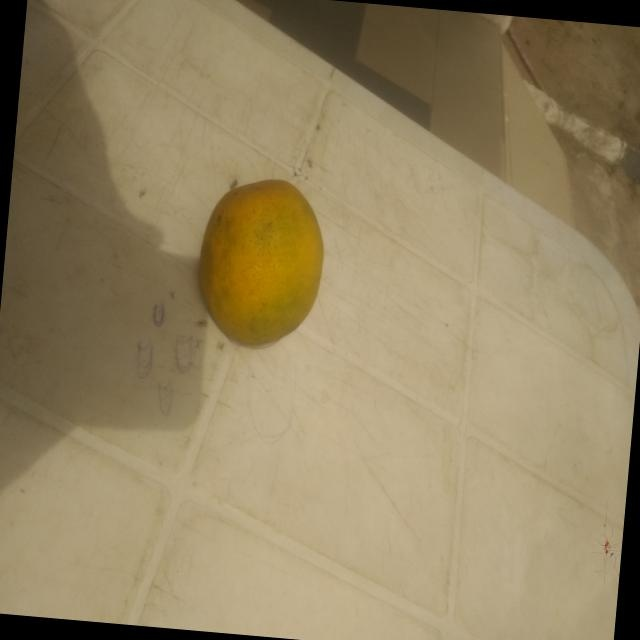agrume: (181, 155, 353, 385)
